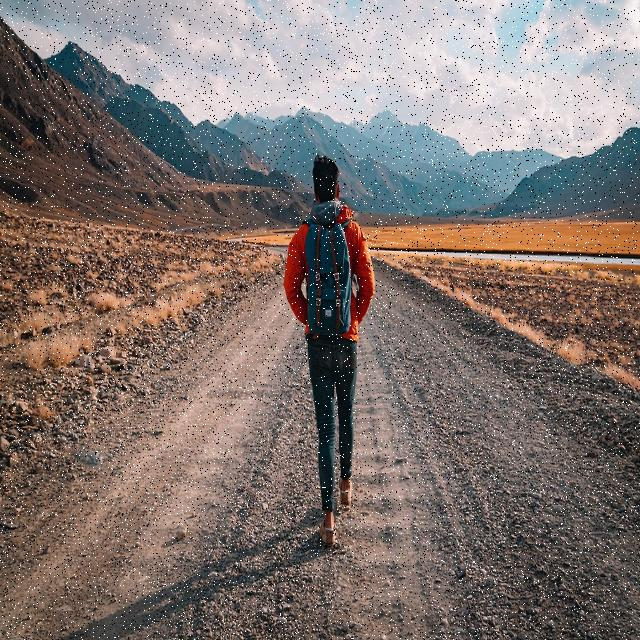Person: (284, 154, 374, 550)
